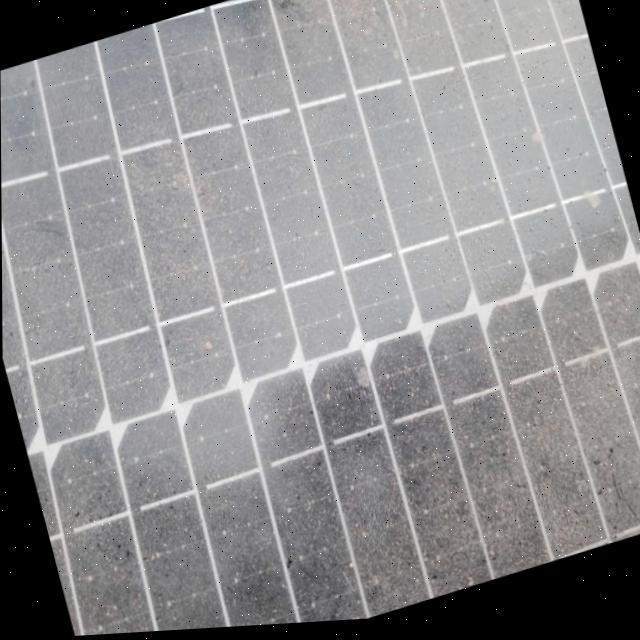Surface Contaminant: (1, 0, 640, 636)
